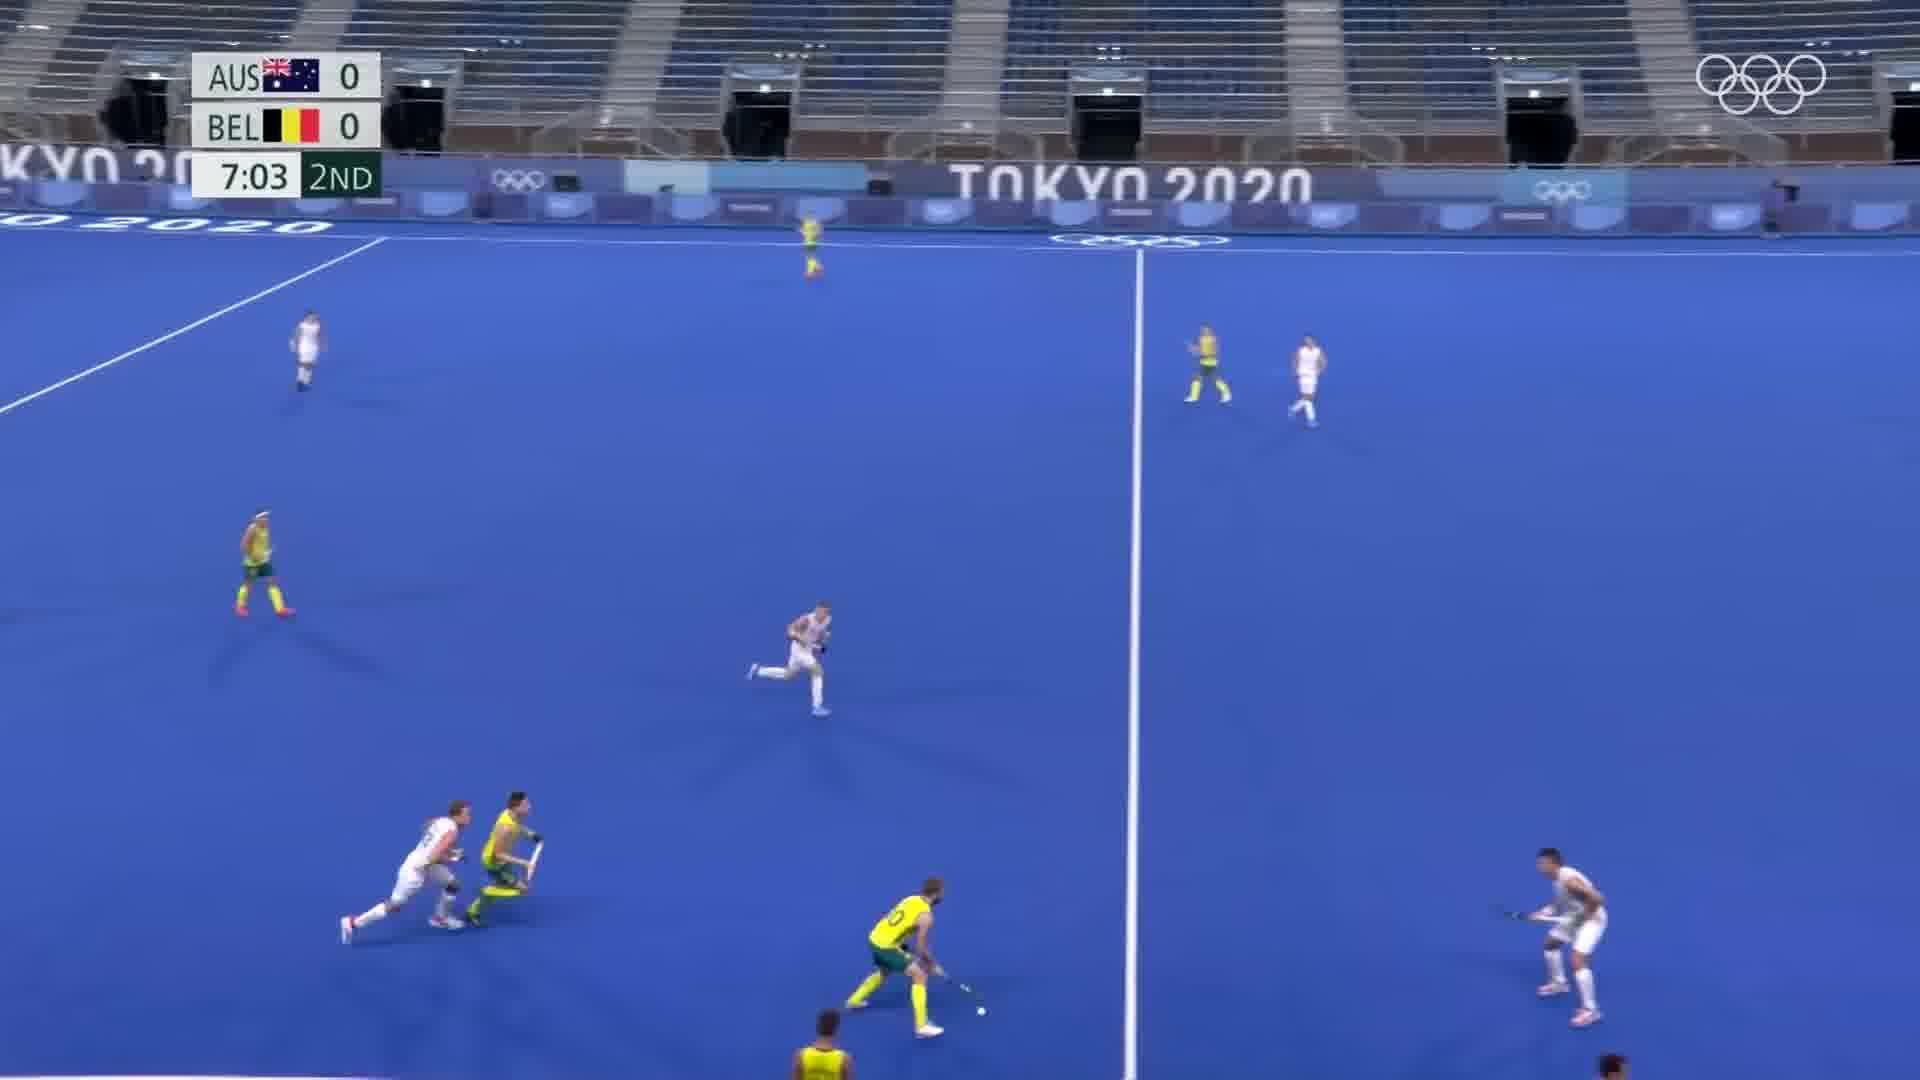ball: (971, 1004, 992, 1022)
